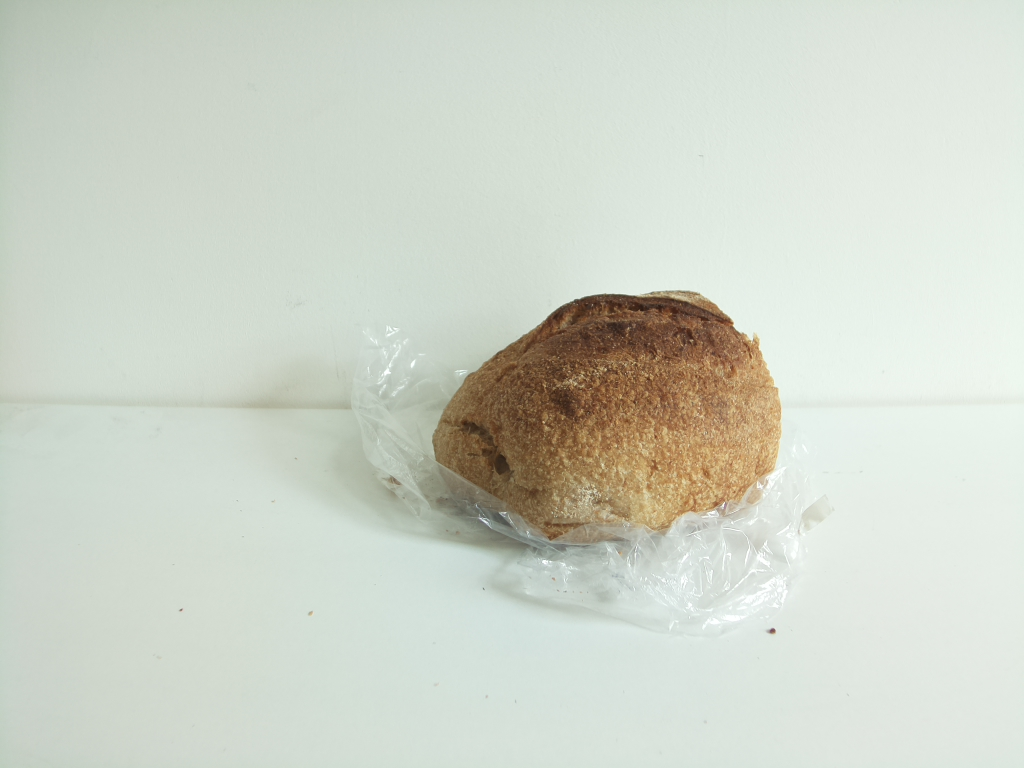bread: (431, 287, 782, 549)
